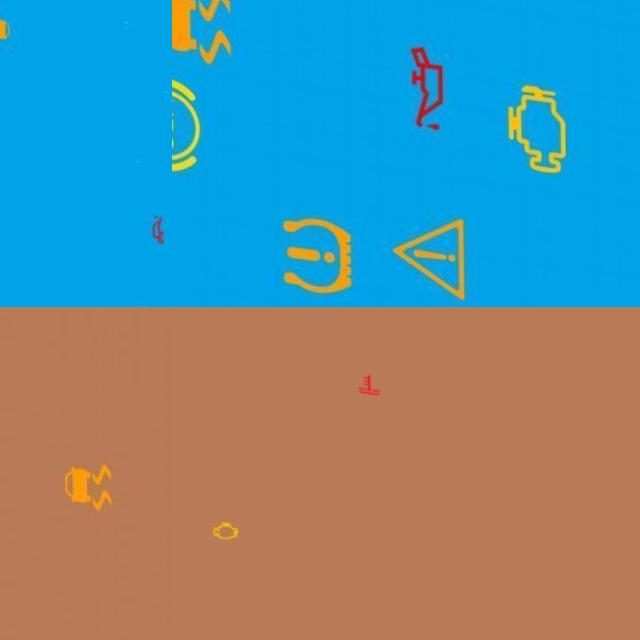High Engine Coolant Temperature: (354, 360, 383, 393)
